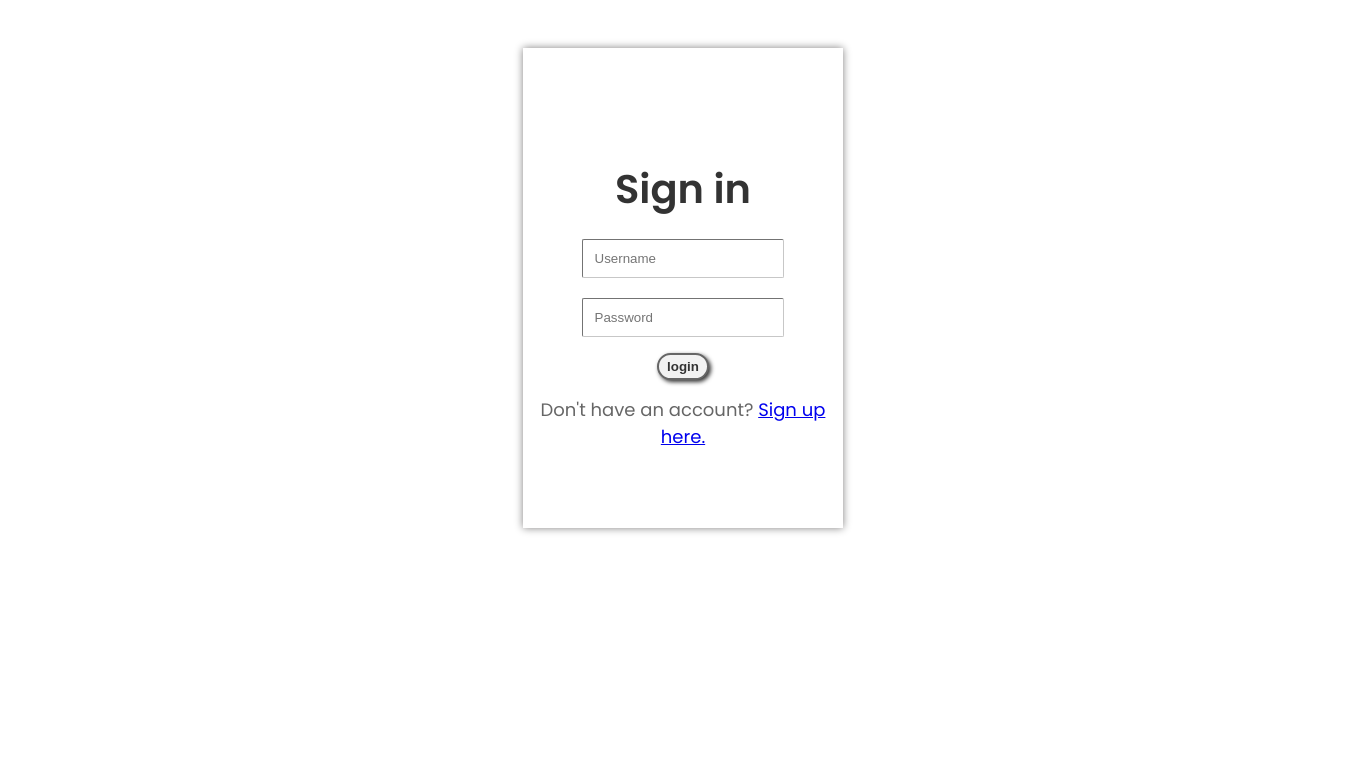
Test: <LoginForm /> › clears input fields after failed login attempt
Type "wronguser" into the field with placeholder "Username" at coordinates (683, 258), box [582,239,784,278]
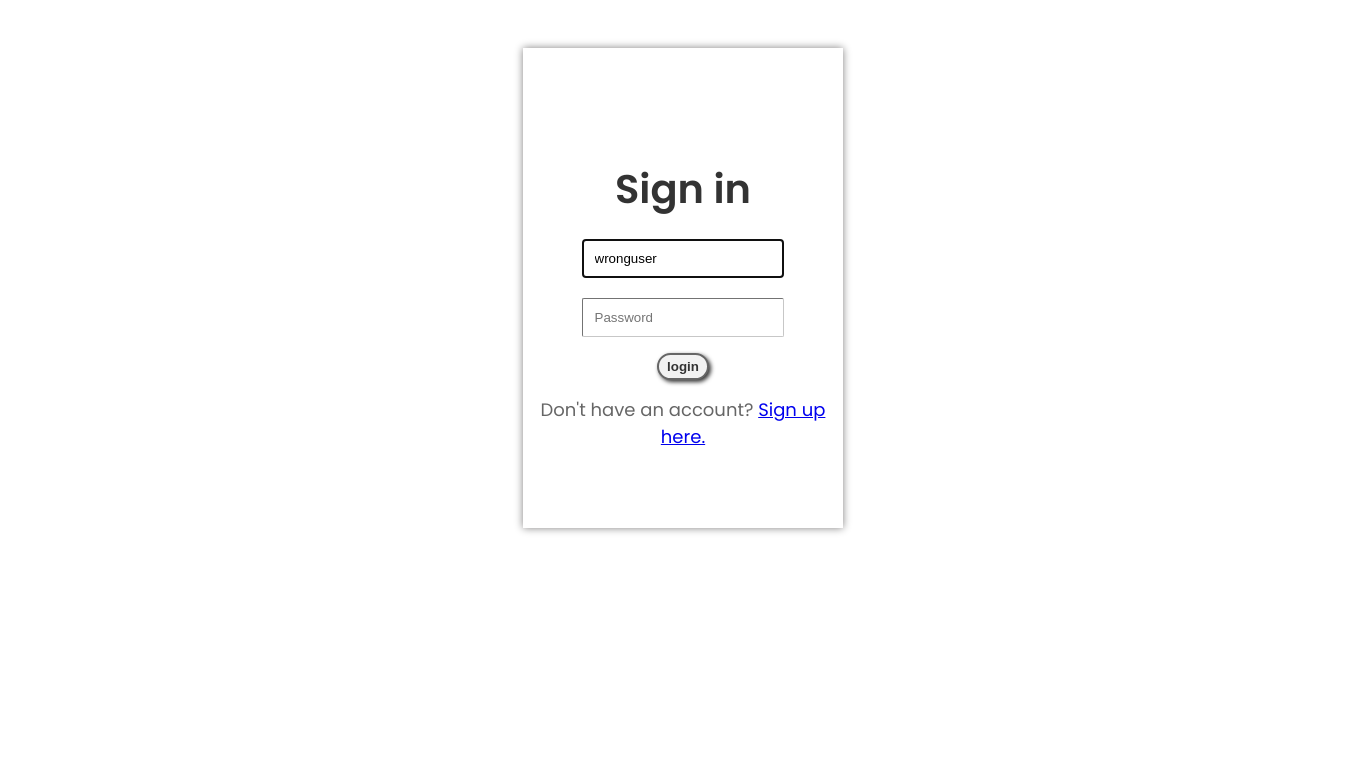
Type "wrongpass" into the password field with placeholder "Password" at coordinates (683, 318), box [582,298,784,338]
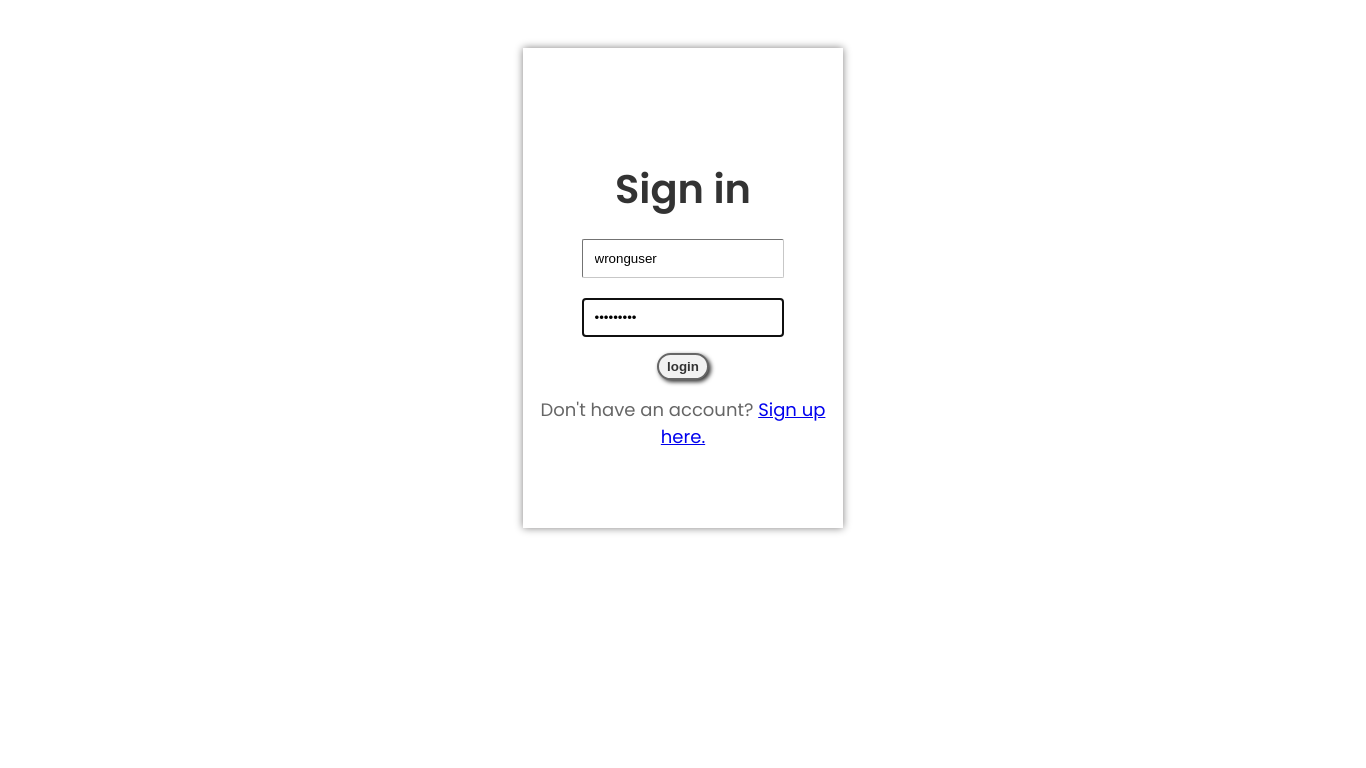
Click the button "login" at coordinates (683, 367), box [657,354,709,380]
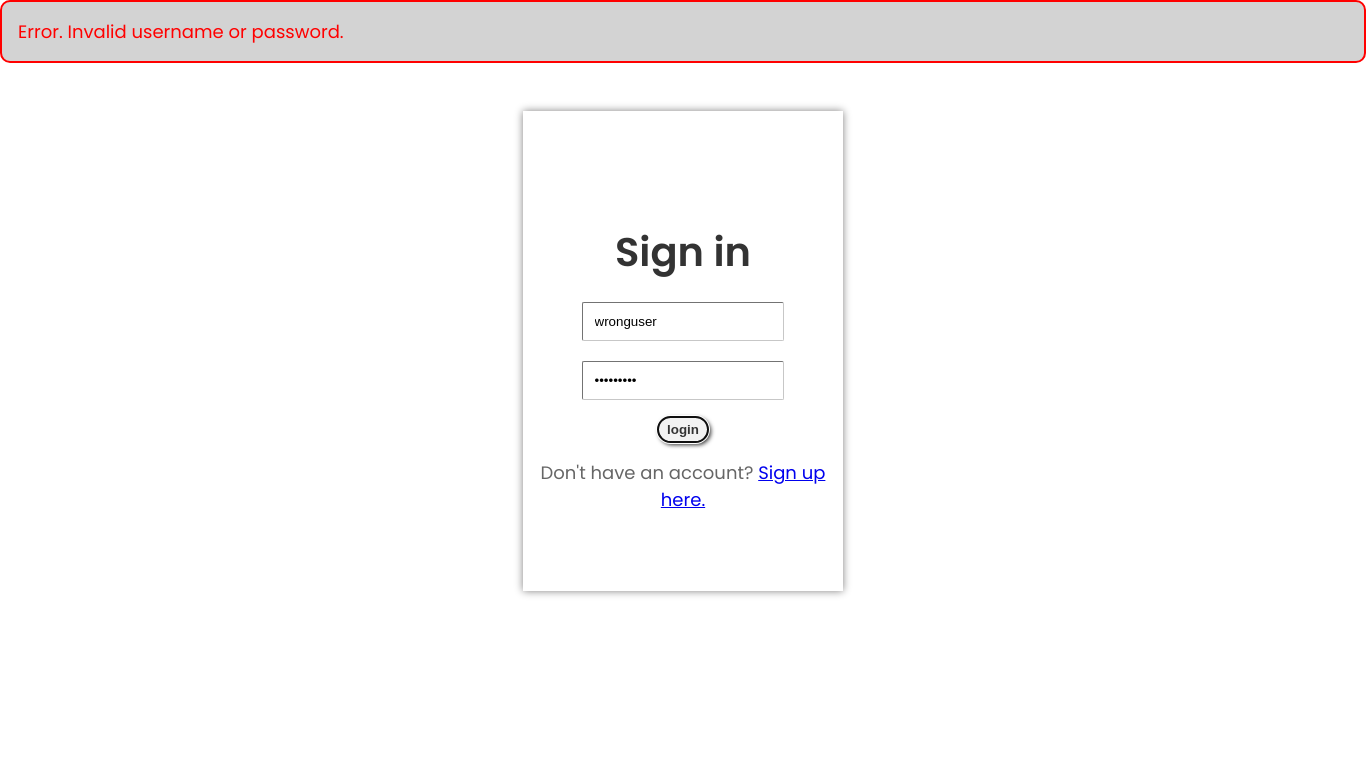
Result: the message "Error. Invalid username or password." is shown at [0,0,1365,63]
